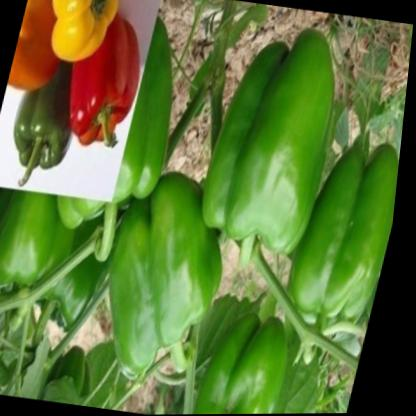bell_pepper: (183, 14, 360, 289), (83, 173, 255, 399), (277, 127, 405, 371), (35, 0, 131, 75)
